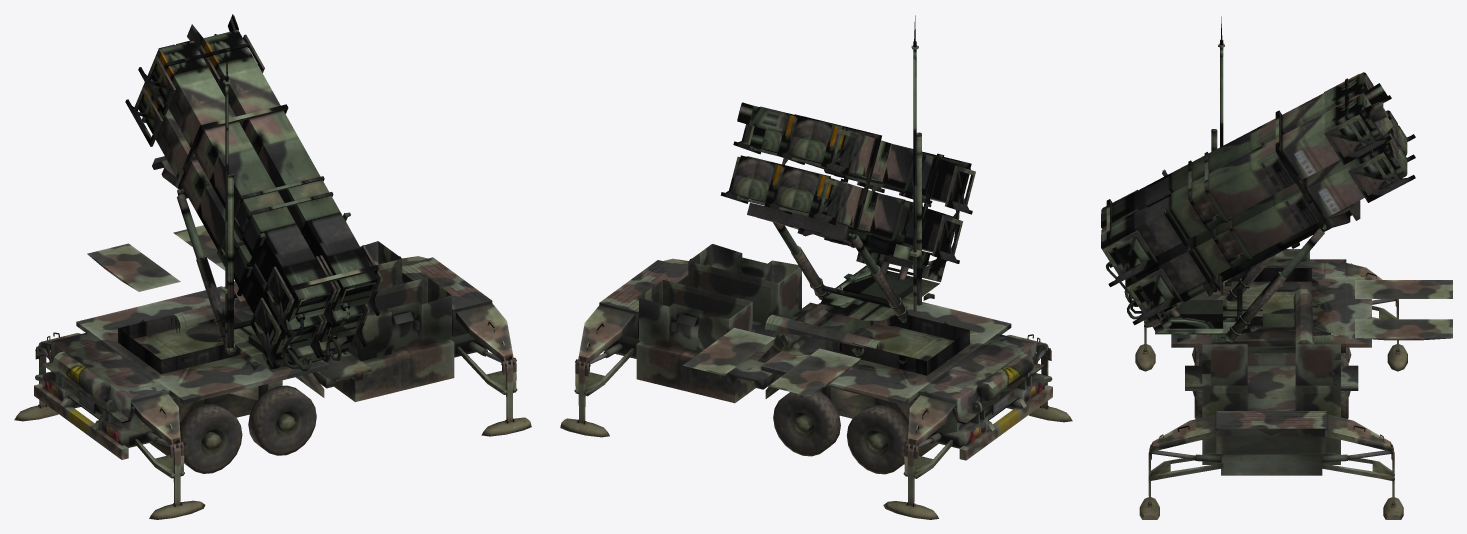
File: sam.glb
The picture shows the model from 3 angles, left to right: view 1: azimuth 30°, elevation 25°; view 2: azimuth 150°, elevation 25°; view 3: azimuth 270°, elevation 25°; orthographic projection. The views are drawn at different scales.
Parts seen in each view (by area): view 1: hull, turret; view 2: hull, turret; view 3: turret, hull.
Part boxes in pixels (x1,y1,x2,y2): hull: [14, 241, 531, 519]; turret: [87, 14, 383, 372]; hull: [560, 244, 1072, 519]; turret: [683, 15, 975, 396]; turret: [1101, 16, 1452, 344]; hull: [1135, 249, 1407, 519].
Size of the model in its own units: 8.44 by 8.53 by 7.04.
Materials: 1 (1 with a texture image).
